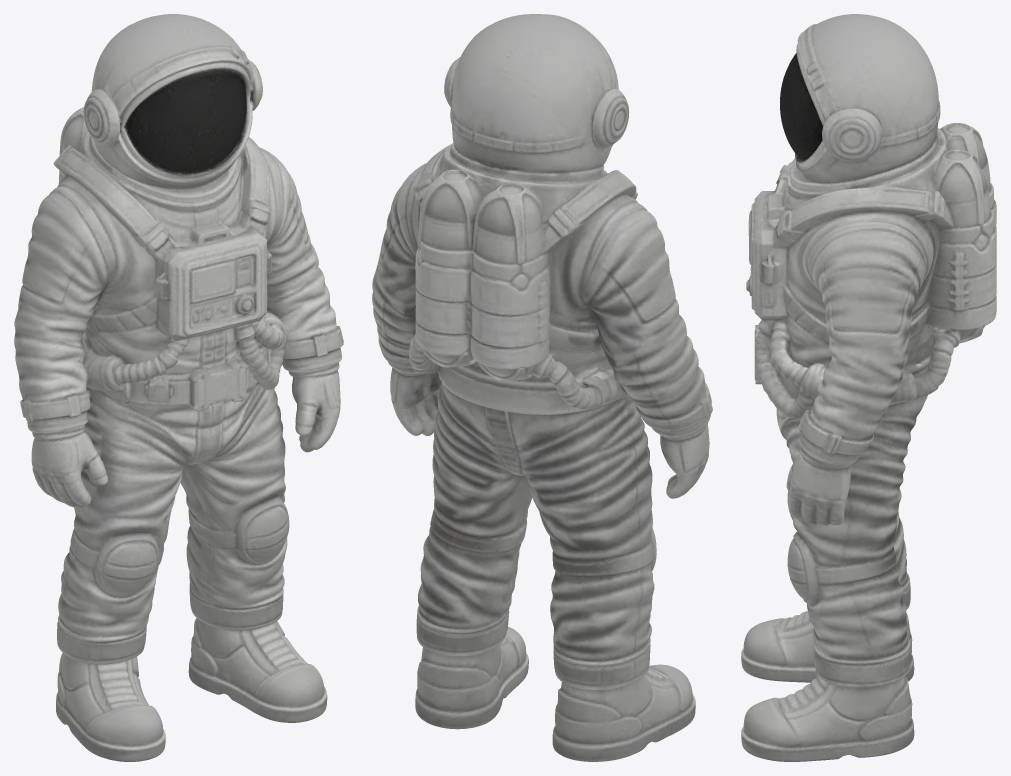
The model's file is astronaut.glb.
3 renders of one model, left to right at view 1: azimuth 30°, elevation 25°; view 2: azimuth 150°, elevation 25°; view 3: azimuth 270°, elevation 25°, orthographic. The views are drawn at different scales.
Bounding box in the file's own units: 0.9229 × 1.9 × 0.6434.
Materials: 1 (1 with a texture image).
